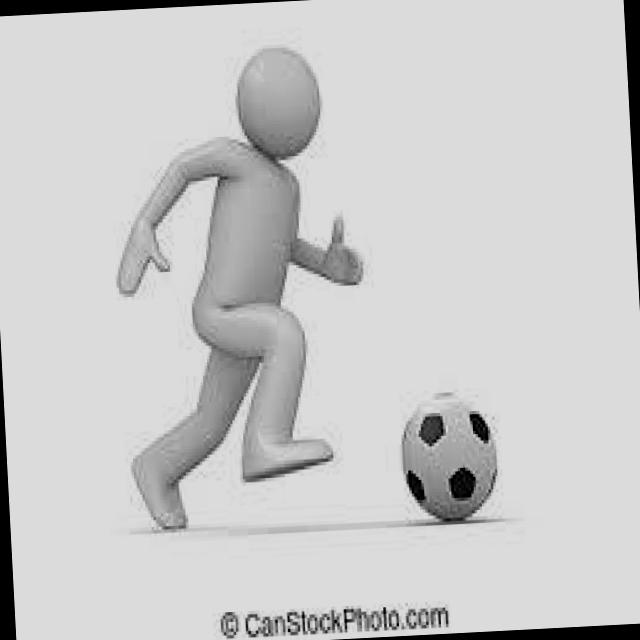Soccer Ball: (400, 390, 500, 527)
